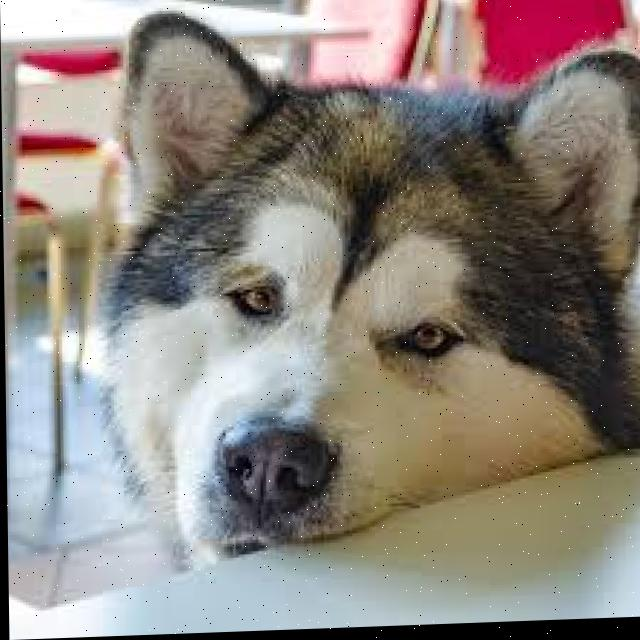ALASKAN_MALAMUTE: (92, 0, 640, 573)
